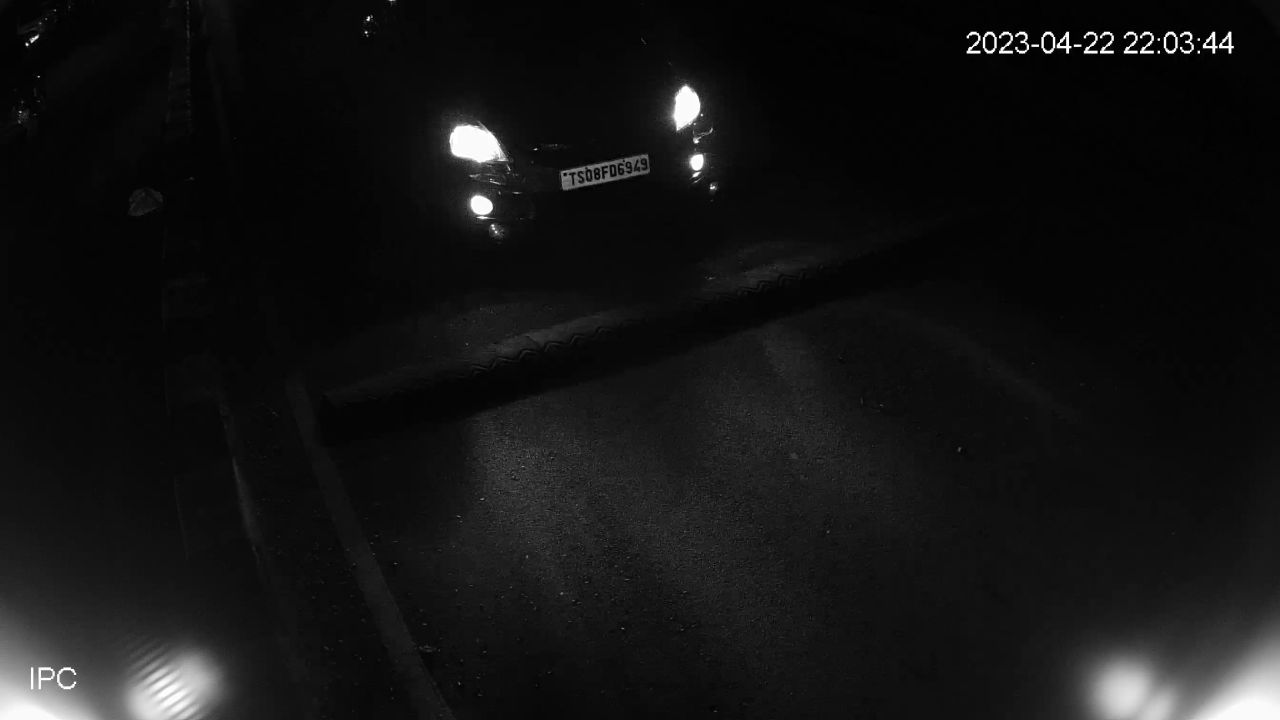license_plate: (554, 145, 654, 201)
